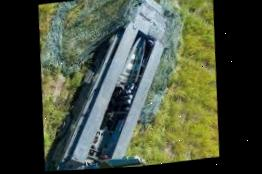rszo: (47, 0, 192, 171)
